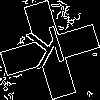K: (25, 25, 71, 79)
